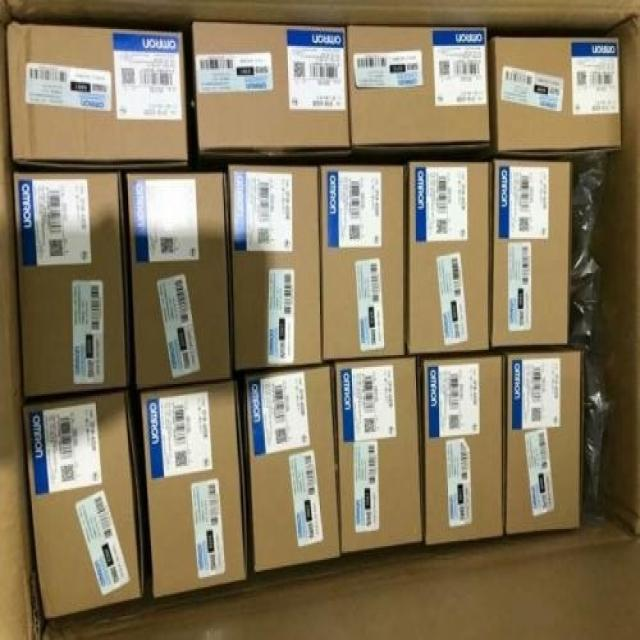box: (23, 389, 143, 621), (6, 19, 188, 169), (13, 172, 131, 396), (141, 379, 248, 597), (128, 172, 234, 387), (192, 20, 351, 155), (241, 365, 342, 572), (229, 166, 323, 370), (335, 357, 424, 553), (348, 26, 490, 148), (403, 162, 492, 355), (321, 166, 406, 362), (419, 355, 506, 544), (488, 36, 621, 155), (492, 160, 572, 348), (506, 350, 585, 534)
